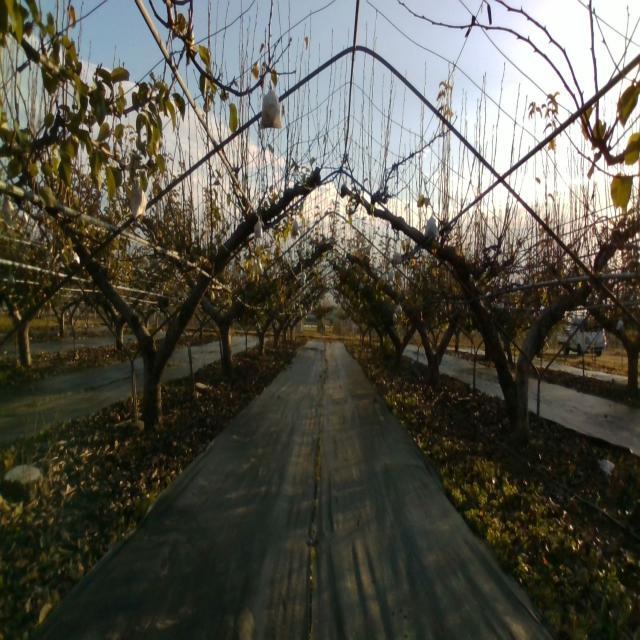pearbags: (258, 80, 282, 130), (129, 189, 147, 218), (424, 216, 439, 241)
